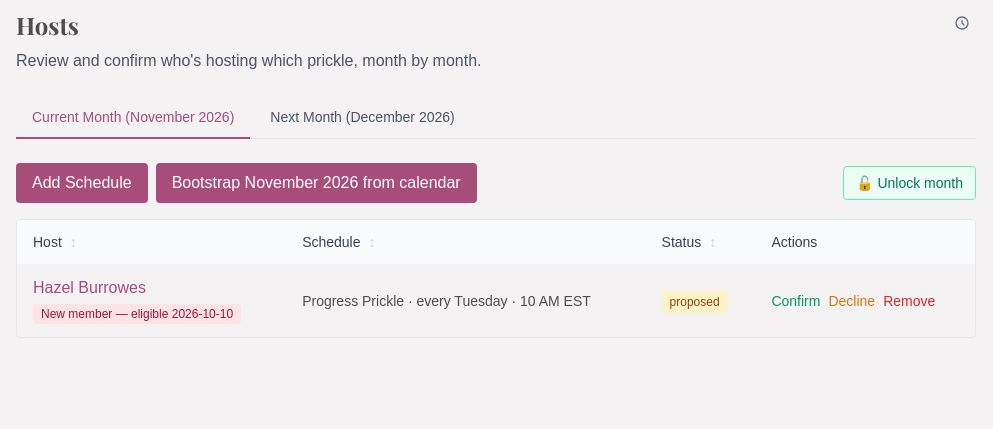
Scenario: HostsClient bootstrap from calendar › previews with a dry run, confirms with the counts, then imports without dryRun
Check: the link "Hazel Burrowes" is shown, box [33,279,146,296]
Click the button "Bootstrap November 2026 from calendar": (316, 183) [156,163,477,203]
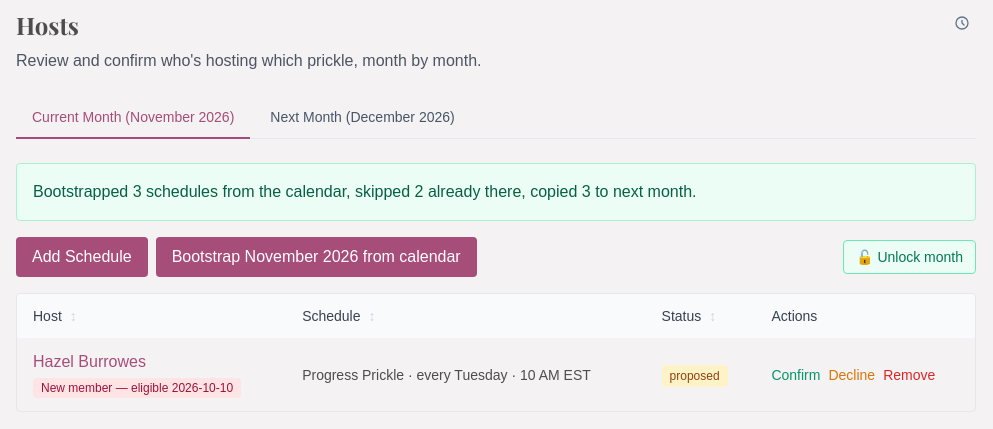
Check: the text "skipped 2 already there, copied 3 to next month." is shown, box [33,183,696,200]
